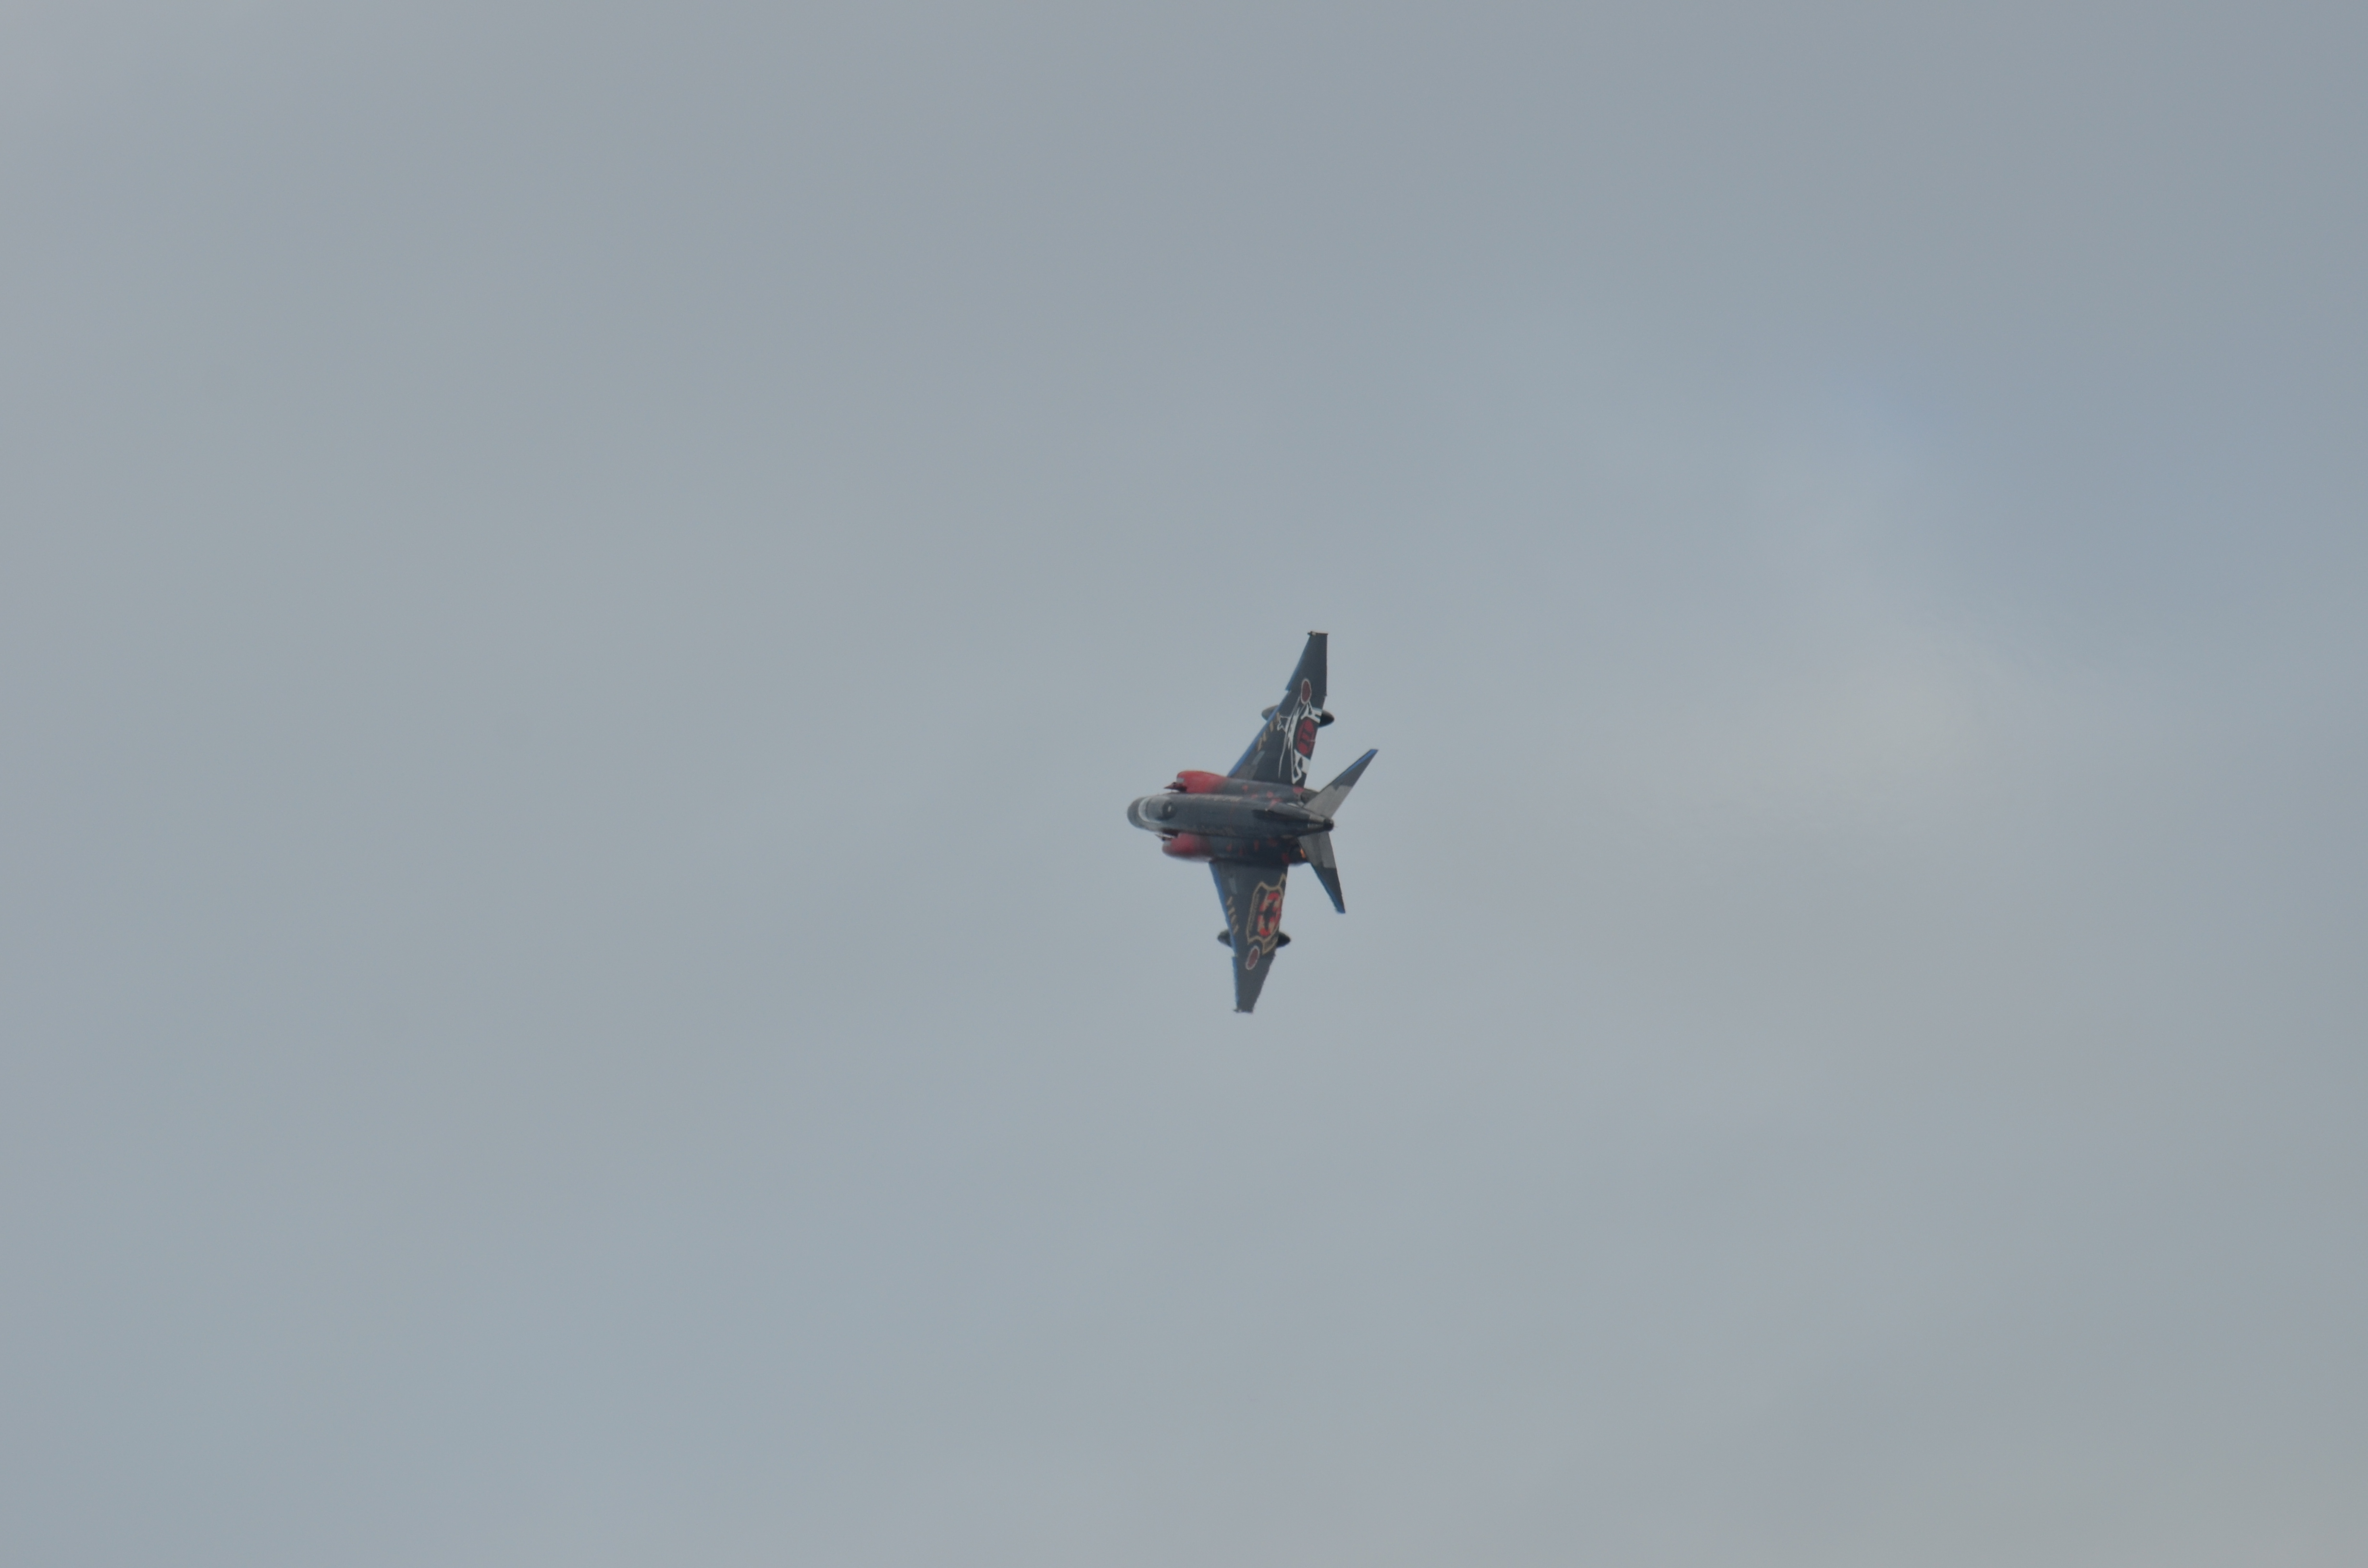F4: (1124, 630, 1379, 1013)
